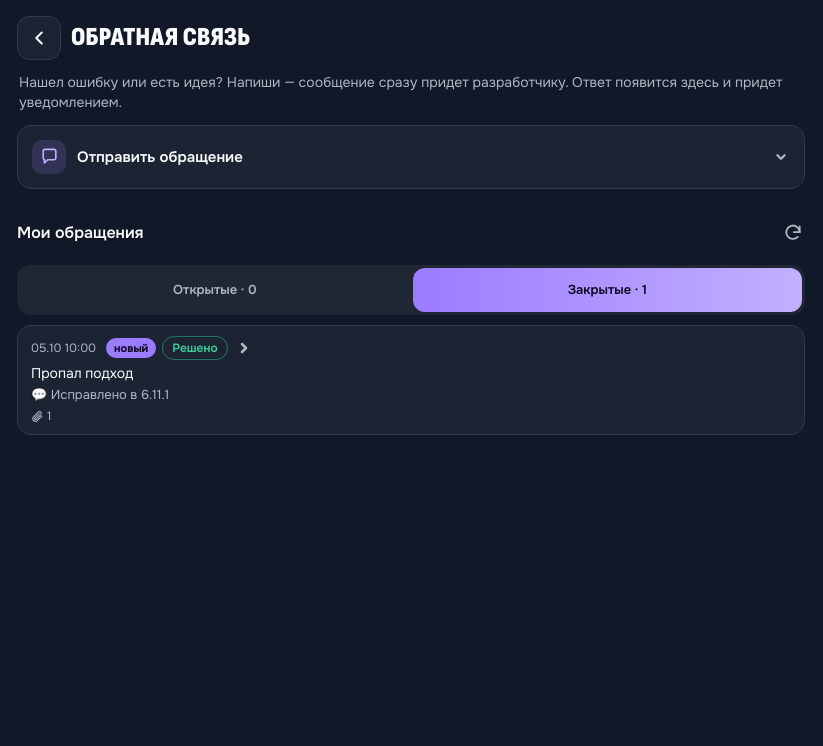
FeedbackScreen › есть обращения — форма свернута под «Отправить обращение», тап раскрывает и сворачивает
expect the button "Пропал подход" is shown: met, box 18,326 -> 804,434
expect the field labelled "Что случилось?" is not shown: met
Step 1. Click the button "Отправить обращение" → (49, 157), box 17,125 -> 805,189
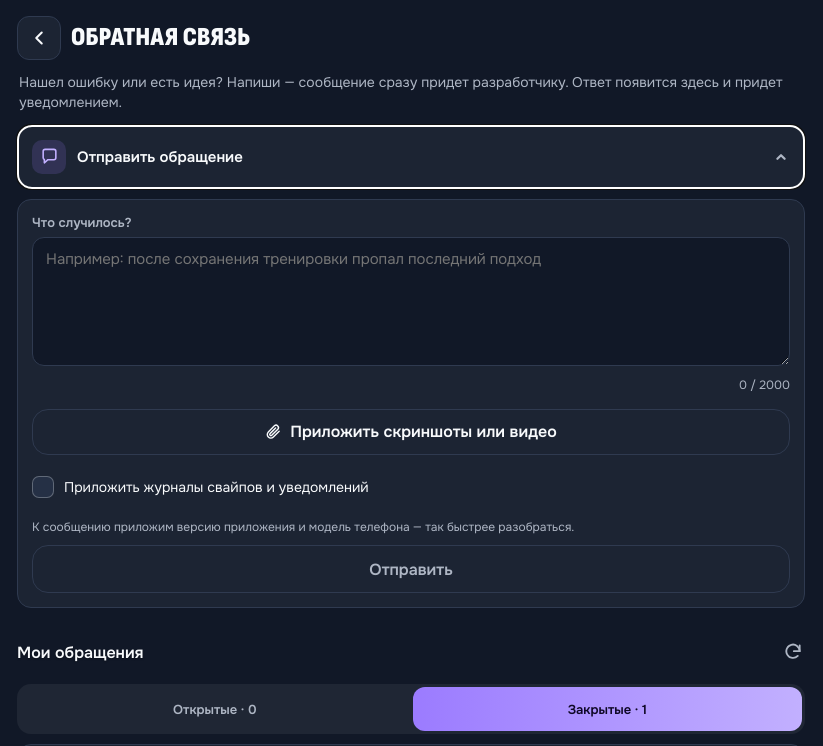
expect the button "Отправить обращение" is expanded: met, box 17,125 -> 805,189
Step 2. Type "идея" into the text box labelled "Что случилось?" → (411, 301), box 32,237 -> 790,366
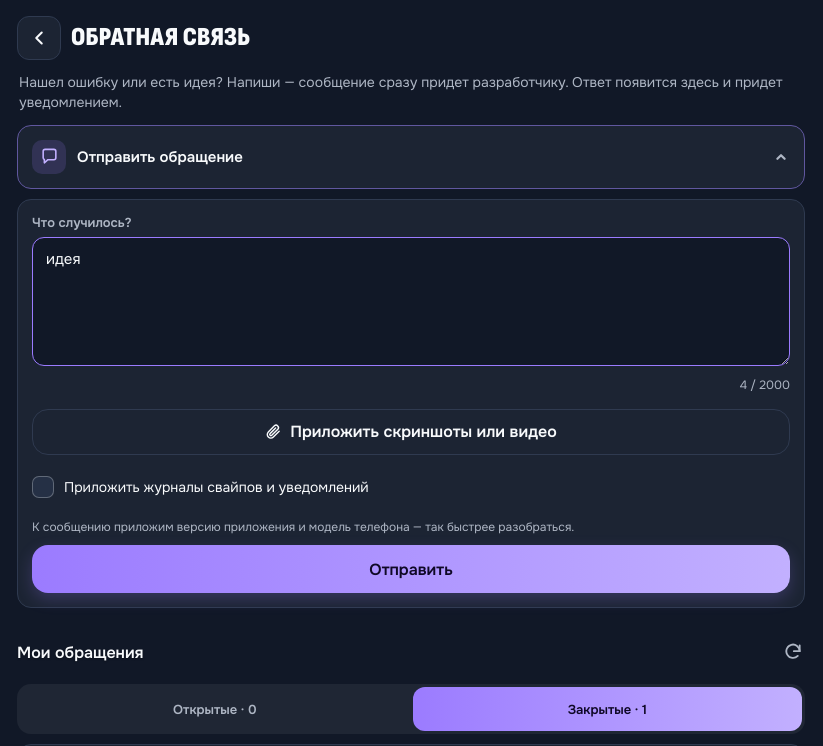
Step 3. Click the button "Отправить обращение" → (49, 157), box 17,125 -> 805,189
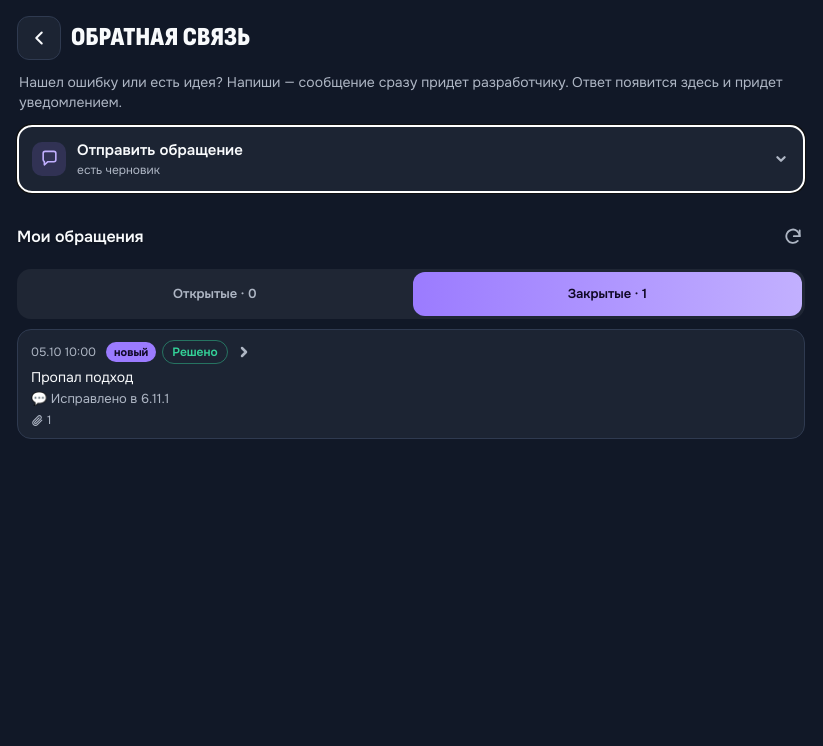
expect the text labelled "Что случилось?" is gone: met
expect the button "Отправить обращение есть черновик" is shown: met
Step 4. Click the button "Отправить обращение есть черновик" → (49, 159), box 17,125 -> 805,193
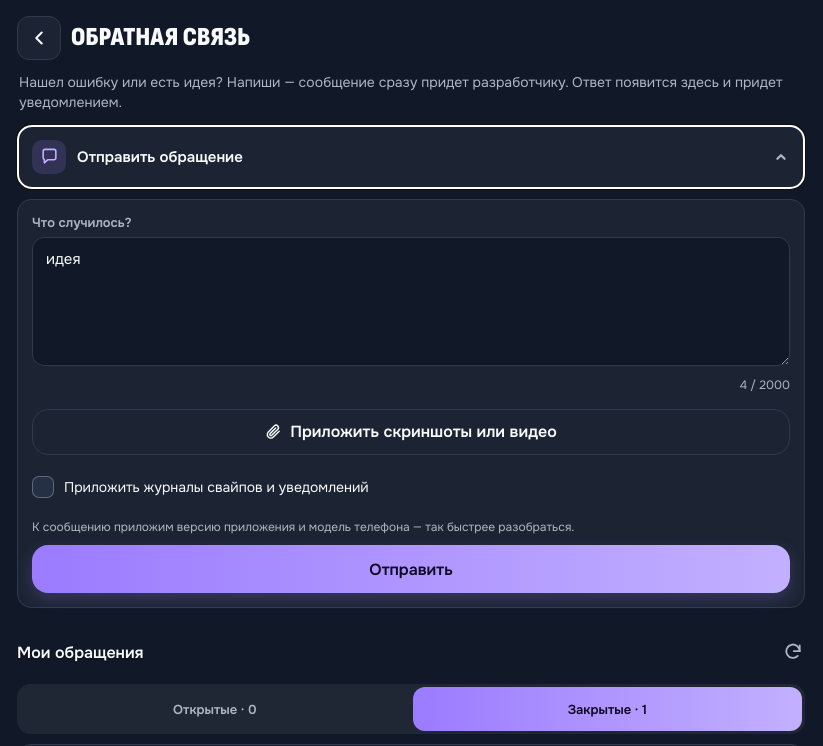
expect the text box labelled "Что случилось?" holds "идея": met, box 32,237 -> 790,366
